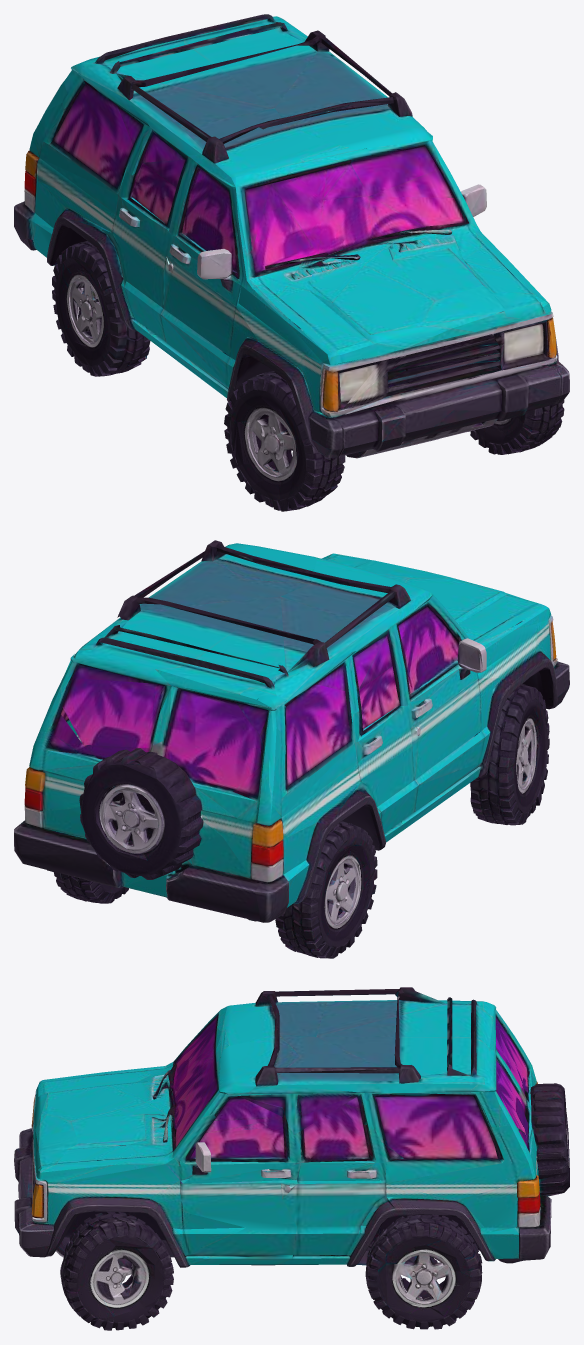
File: car_jeep.glb
3 renders of one model, top to bottom at view 1: azimuth 30°, elevation 25°; view 2: azimuth 150°, elevation 25°; view 3: azimuth 270°, elevation 25°, orthographic. The views are drawn at different scales.
Bounding box in the file's own units: 2.28 × 2.23 × 4.5.
Materials: 1 (1 with a texture image).
